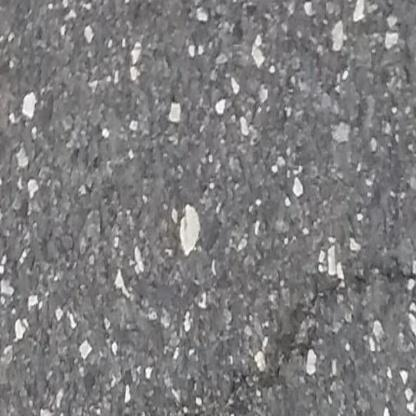Cracks: (179, 254, 416, 416)
